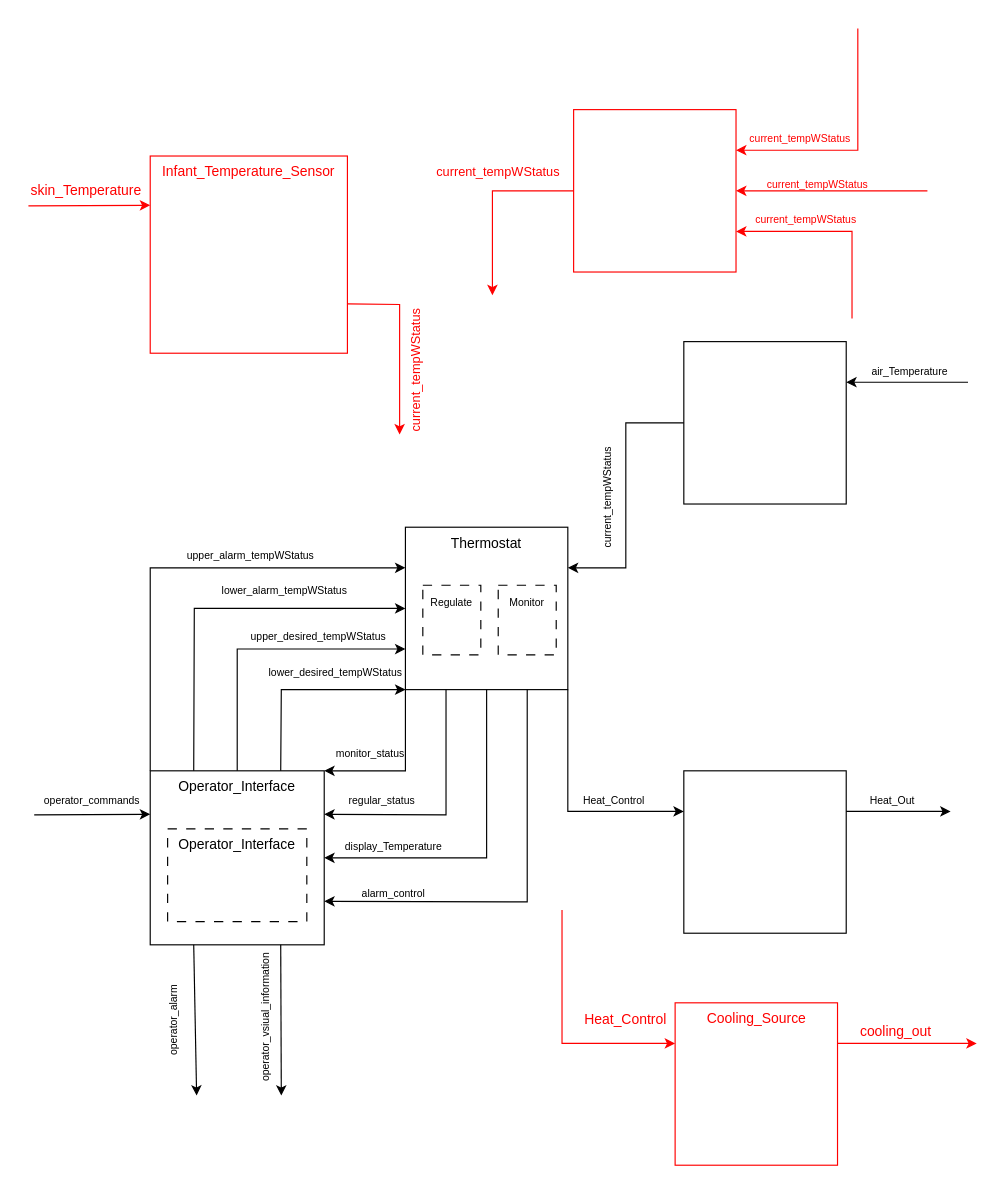
This 1007x1186 diagram has some shape labels left out. Each missing label, with the box of its shape:
Heat_Source: (683, 770, 846, 933)
Temperature_Sensor: (683, 340, 846, 504)
Voter: (572, 108, 736, 272)
